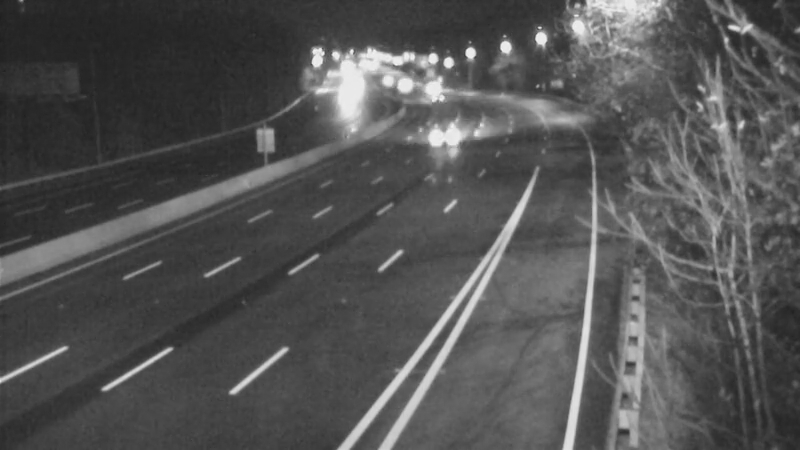vehicle: (359, 56, 409, 106), (379, 63, 429, 113), (404, 62, 454, 112), (416, 73, 466, 123), (421, 111, 471, 161), (317, 71, 367, 121)
